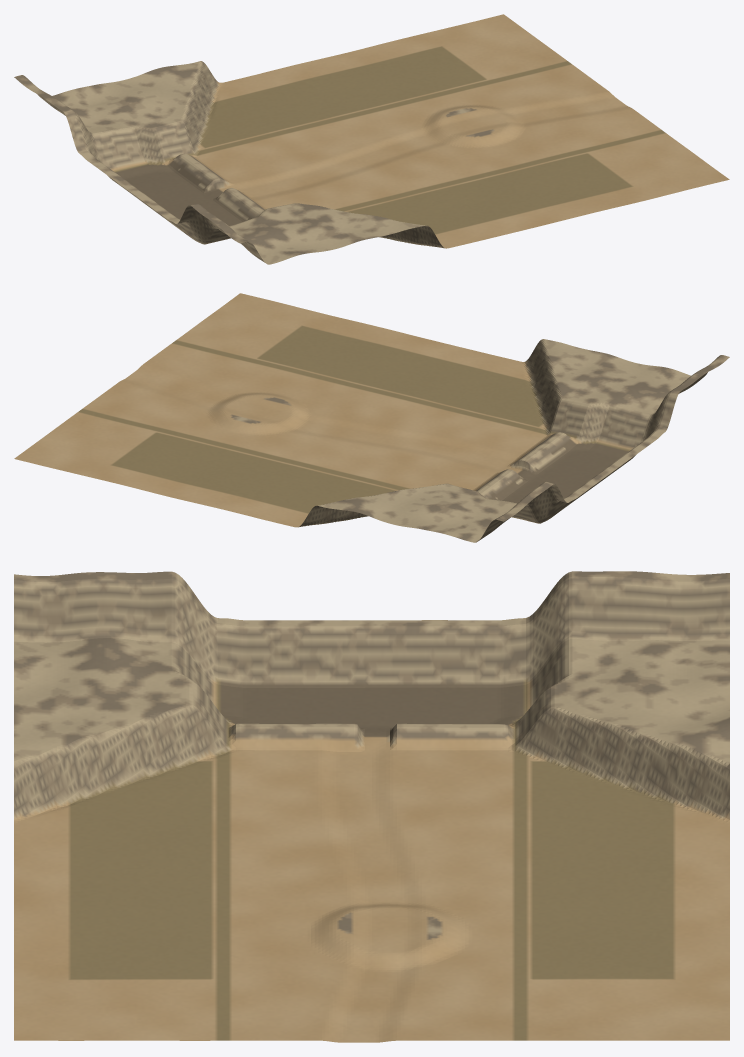
The model's file is terrain.glb.
3 renders of one model, top to bottom at view 1: azimuth 30°, elevation 25°; view 2: azimuth 150°, elevation 25°; view 3: azimuth 270°, elevation 25°, orthographic. The views are drawn at different scales.
Parts seen in each view (by area): view 1: Terrain; view 2: Terrain; view 3: Terrain.
Boxes of the visible parts, x1,y1,x2,y2 form: Terrain: [14, 14, 729, 264]; Terrain: [14, 293, 729, 542]; Terrain: [14, 571, 729, 1042].
Size of the model in its own units: 1000 by 117 by 800.
